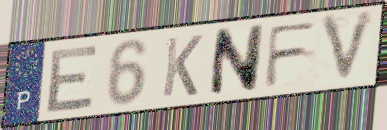6: (102, 35, 151, 110)
E: (43, 41, 101, 116)
F: (262, 18, 321, 91)
K: (160, 33, 205, 100)
N: (207, 21, 267, 99)
V: (318, 7, 379, 87)
